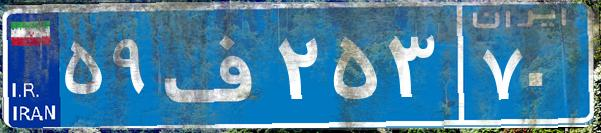0: (525, 38, 570, 115)
2: (273, 28, 330, 110)
3: (385, 28, 445, 110)
5: (330, 28, 385, 110), (57, 26, 110, 107)
7: (475, 38, 525, 113)
9: (110, 28, 158, 105)
ف: (158, 15, 273, 115)
